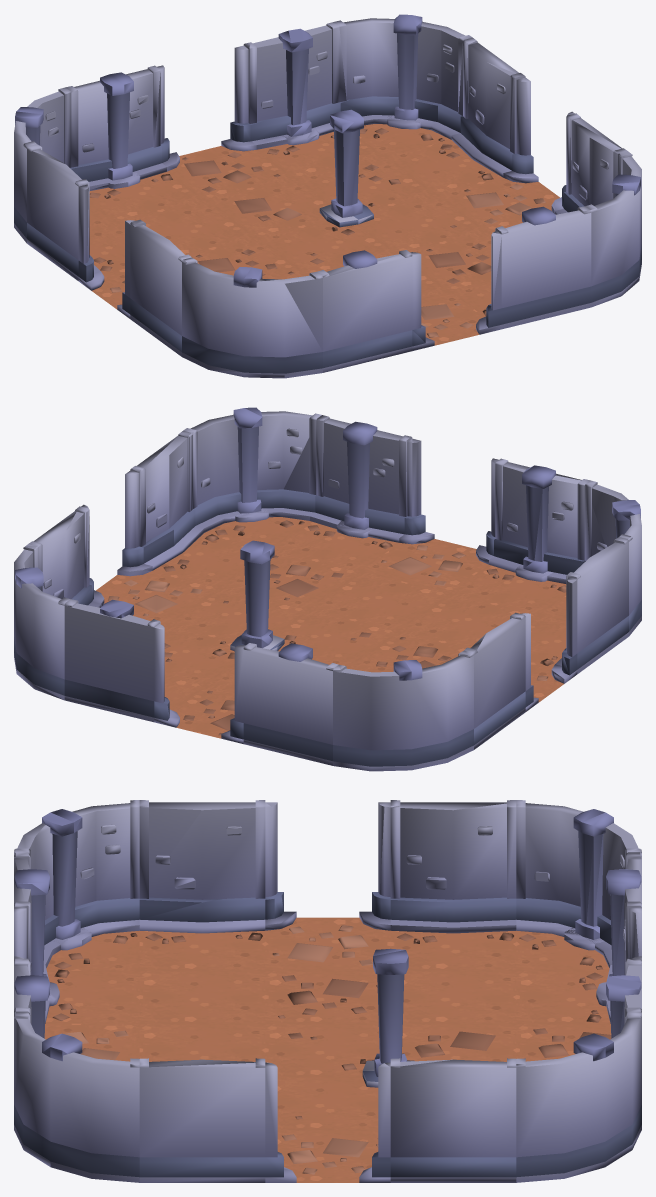
Rendered from room-large.fbx.
The picture shows the model from 3 angles, top to bottom: view 1: azimuth 30°, elevation 25°; view 2: azimuth 150°, elevation 25°; view 3: azimuth 270°, elevation 25°; orthographic projection. The views are drawn at different scales.
Parts seen in each view (by area): view 1: room-large; view 2: room-large; view 3: room-large.
Boxes of the visible parts, bbox=[...] form: room-large: bbox=[14, 14, 641, 378]; room-large: bbox=[14, 407, 641, 771]; room-large: bbox=[14, 800, 641, 1182].
Bounding box in the file's own units: 2000 × 423 × 2000.
